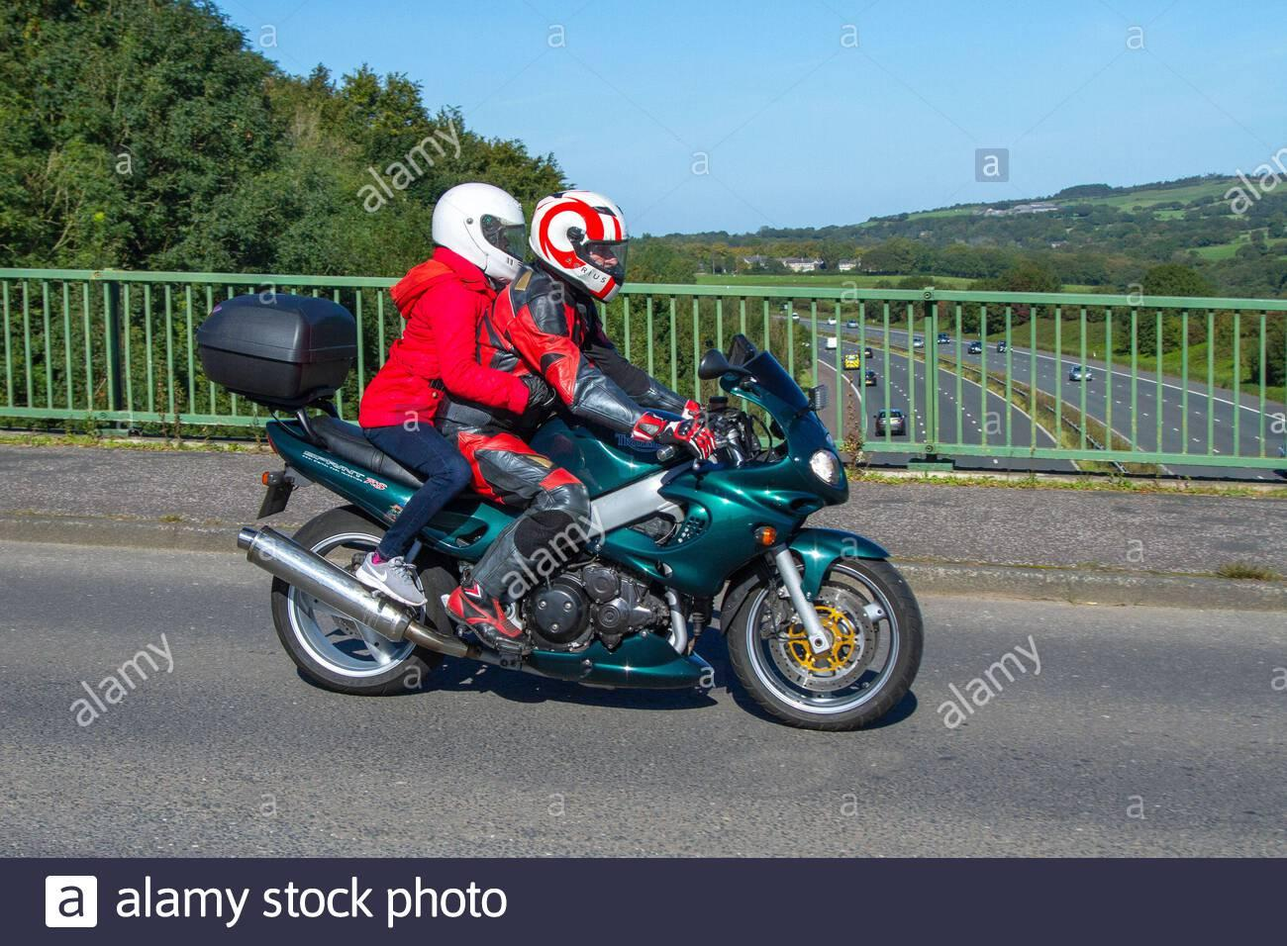helmet: (416, 167, 530, 292), (525, 174, 632, 307)
